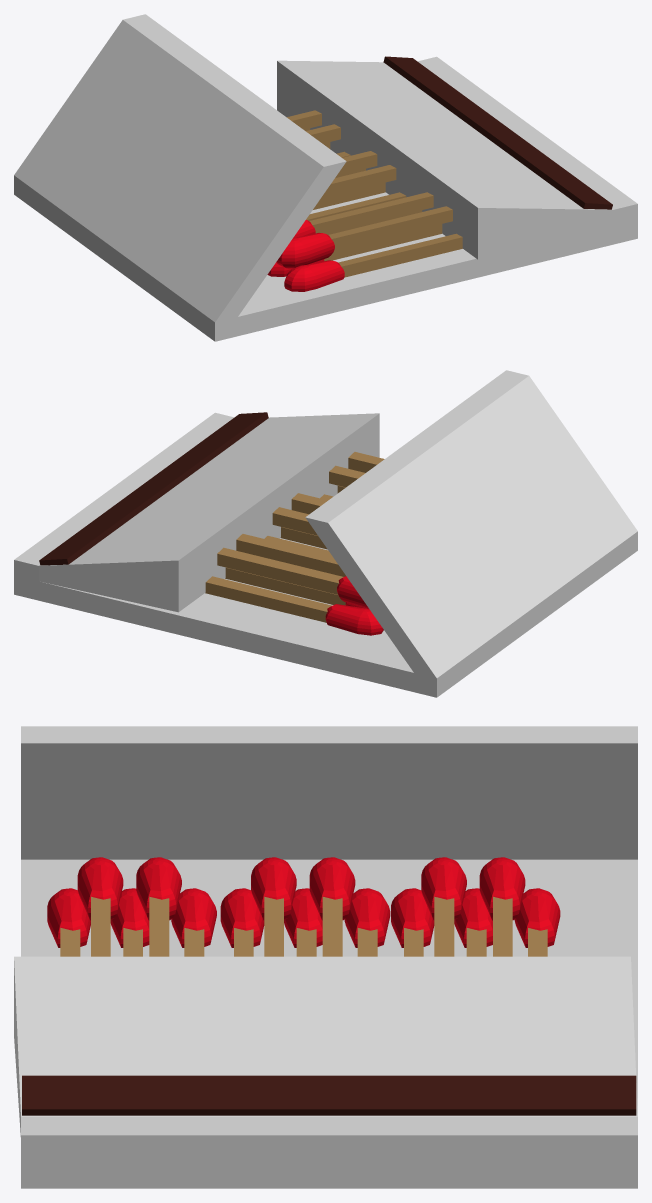
Rendered from Matches.fbx.
3 views of the same model, one above another, from view 1: azimuth 30°, elevation 25°; view 2: azimuth 150°, elevation 25°; view 3: azimuth 270°, elevation 25° (orthographic). The views are drawn at different scales.
Parts seen in each view (by area): view 1: Cube; view 2: Cube; view 3: Cube.
Boxes of the visible parts, left/top/right/bottom form: Cube: left=14, top=14, right=637, bottom=341; Cube: left=14, top=370, right=637, bottom=697; Cube: left=14, top=726, right=637, bottom=1188.
Bounding box in the file's own units: 18.21 × 6.1 × 15.17.
